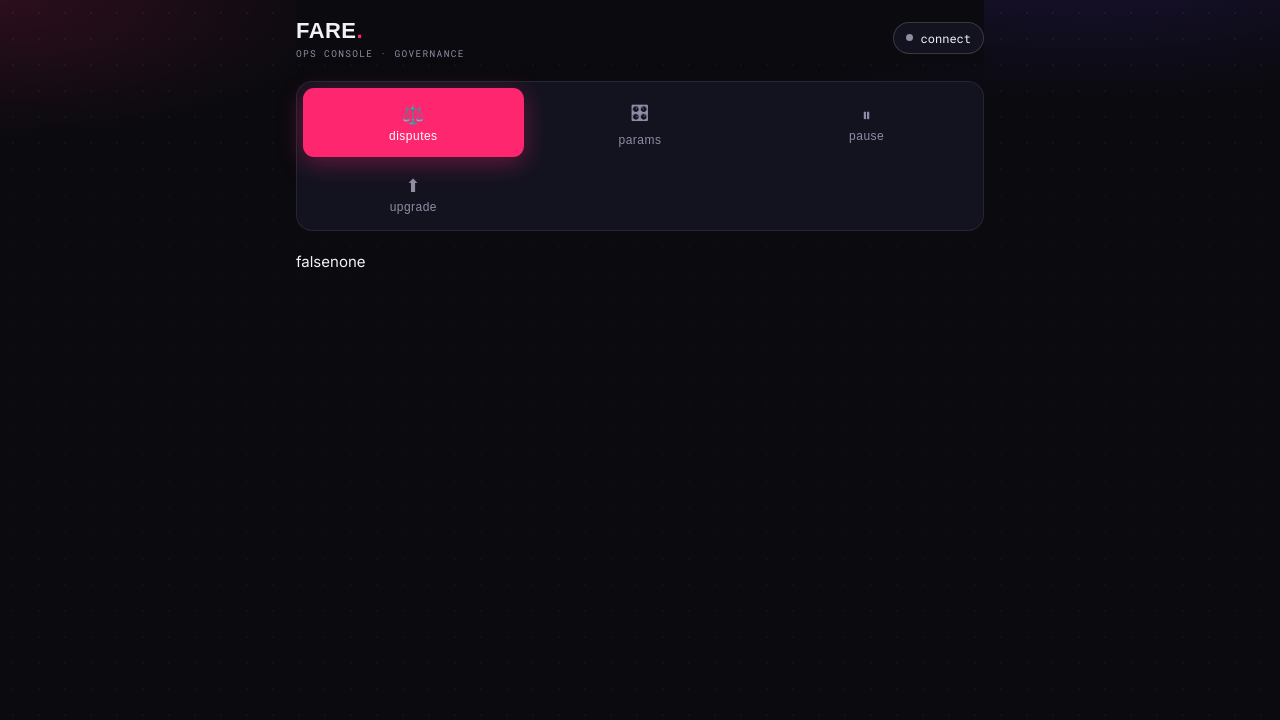
Scenario: the shared transaction wrapper › awaits the receipt BEFORE the console reloads
Click the button "connect".
click(938, 38)  # box [893,22,984,54]
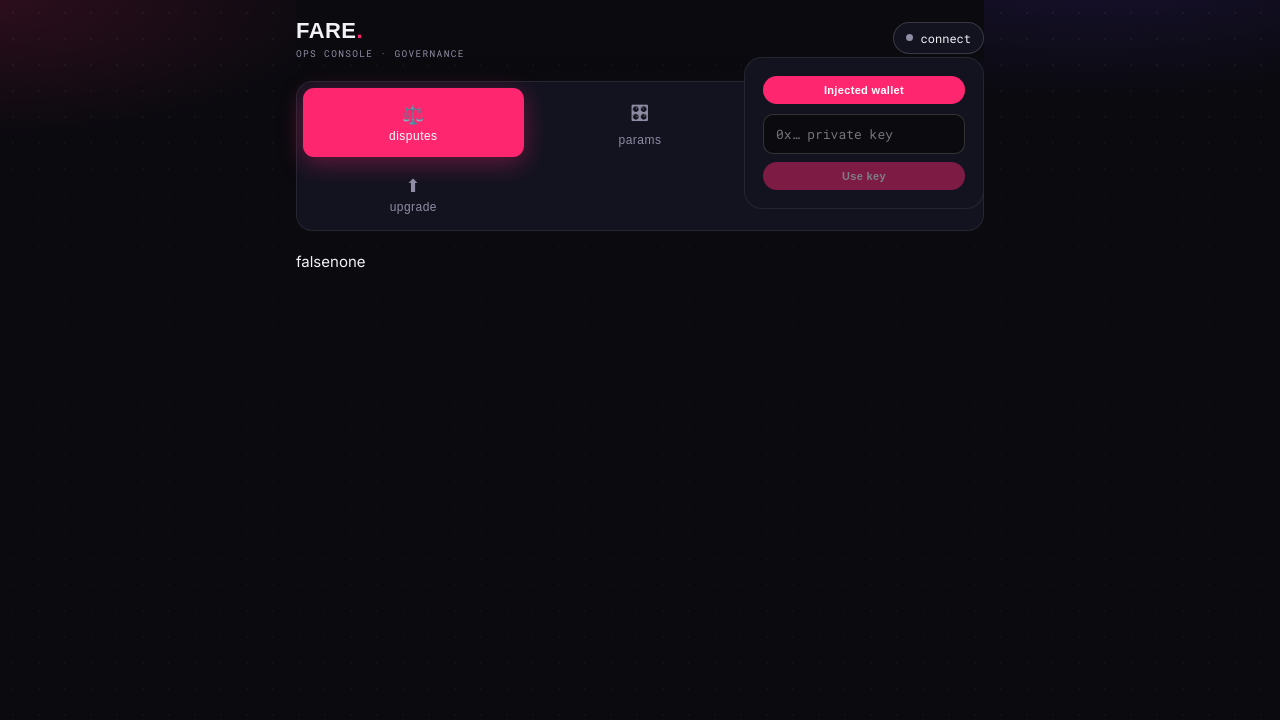
Click the button "Injected wallet".
click(864, 90)  # box [763,76,965,104]
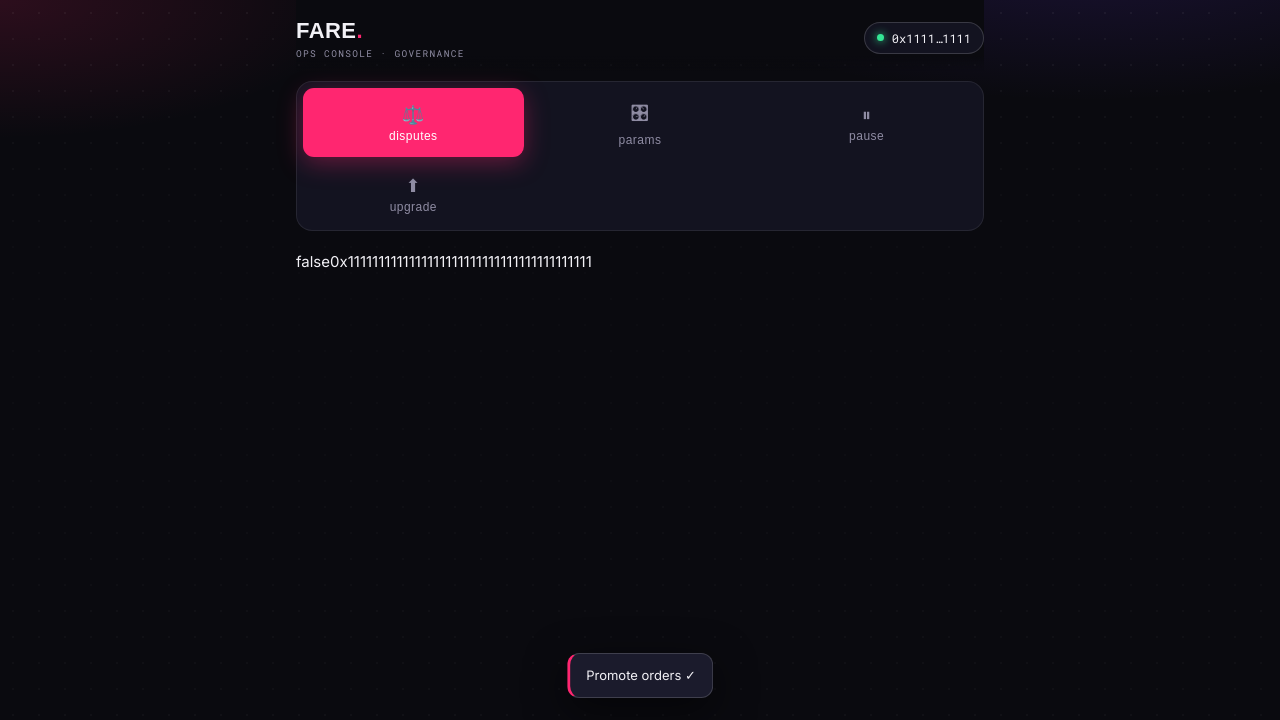
Check: the text with test id "session" reads "0x1111111111111111111111111111111111111111", box [330,252,592,271]
